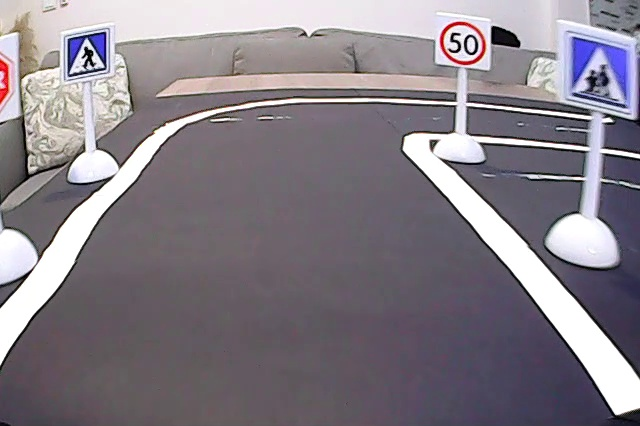pedestrian crossing: (61, 33, 113, 78)
school crossing: (560, 27, 634, 111)
speed limit 50: (439, 16, 490, 71)
